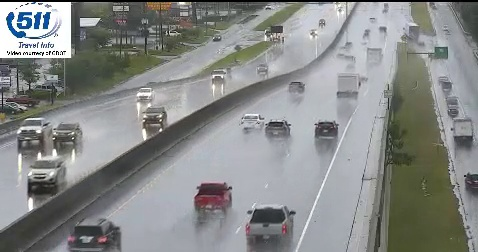car: (246, 204, 293, 244), (68, 219, 120, 252), (194, 182, 232, 211), (265, 120, 290, 139), (315, 121, 339, 138), (240, 114, 264, 130)
